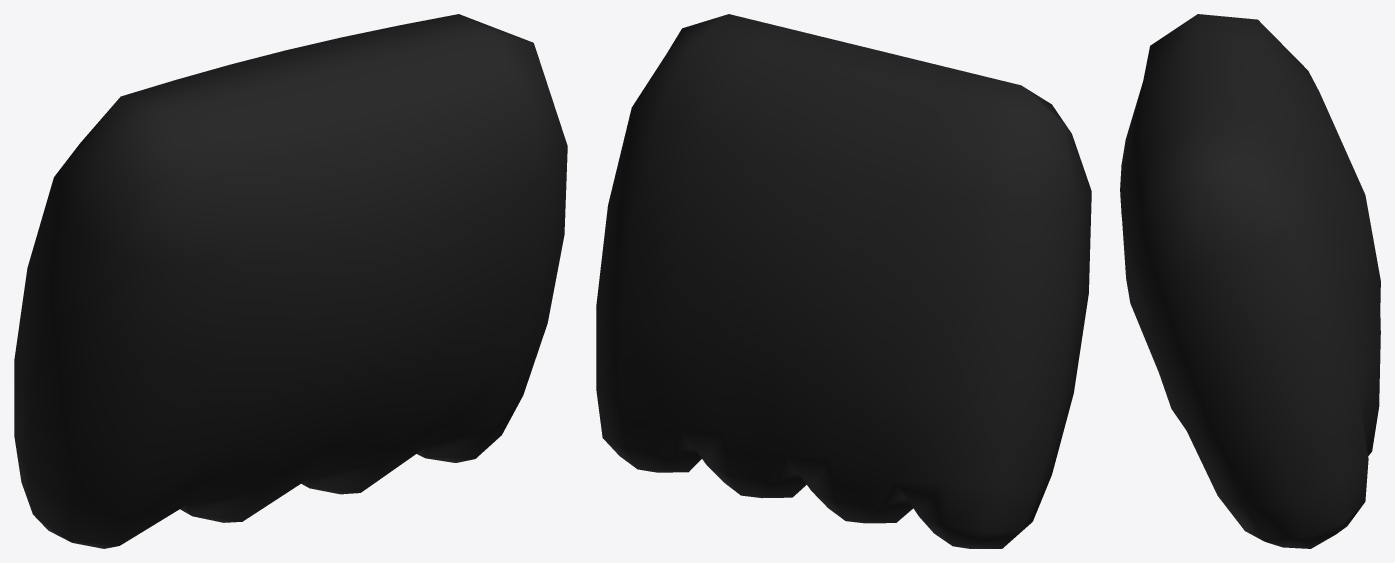
Rendered from Mustache_Black_001.glb.
3 views of the same model, side by side, from view 1: azimuth 30°, elevation 25°; view 2: azimuth 150°, elevation 25°; view 3: azimuth 270°, elevation 25° (orthographic). The views are drawn at different scales.
Visible parts, largest first — view 1: Mustache_Black_001; view 2: Mustache_Black_001; view 3: Mustache_Black_001.
Boxes of the visible parts, x1=… form: Mustache_Black_001: x1=14, y1=14, x2=567, y2=548; Mustache_Black_001: x1=596, y1=14, x2=1091, y2=548; Mustache_Black_001: x1=1120, y1=14, x2=1380, y2=548.
Size of the model in its own units: 0.0818 by 0.0731 by 0.044.
1 material, 1 textured.
